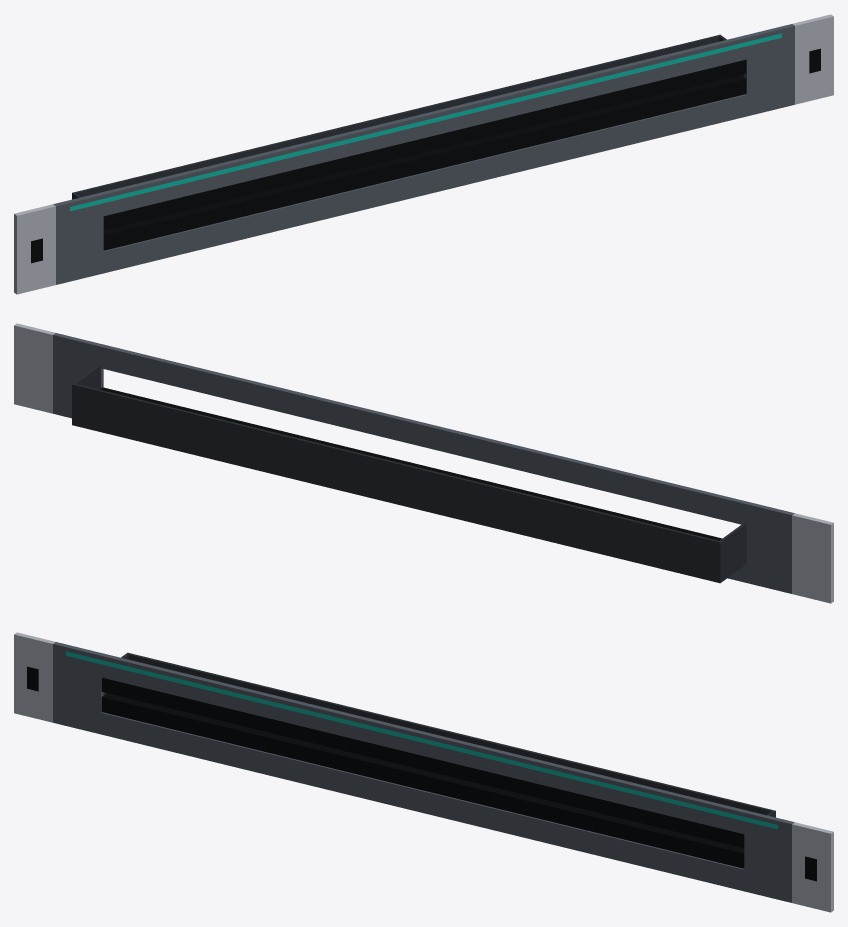
The model's file is BrushPanel_1U.glb.
3 renders of one model, top to bottom at view 1: azimuth 30°, elevation 25°; view 2: azimuth 150°, elevation 25°; view 3: azimuth 330°, elevation 25°, orthographic.
Visible parts, largest first — view 1: BrushPanel_1U_Body; view 2: BrushPanel_1U_Body; view 3: BrushPanel_1U_Body.
Boxes of the visible parts, x1=… form: BrushPanel_1U_Body: x1=14, y1=14, x2=833, y2=294; BrushPanel_1U_Body: x1=14, y1=323, x2=833, y2=603; BrushPanel_1U_Body: x1=14, y1=632, x2=833, y2=912.
Bounding box in the file's own units: 0.4826 × 0.0444 × 0.0306.
